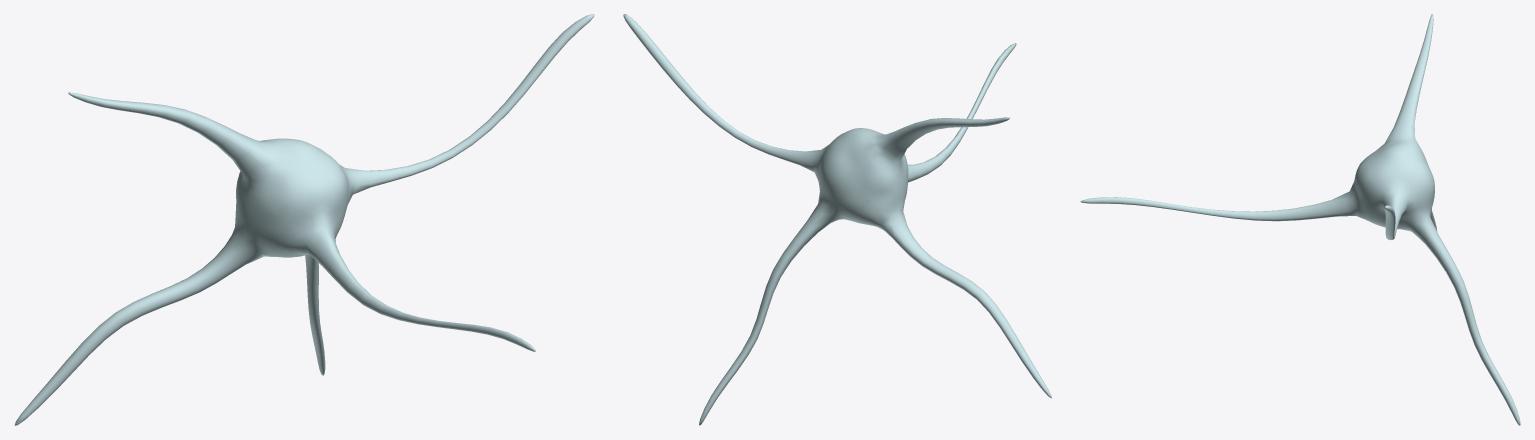
The model's file is Neuron2.fbx.
3 renders of one model, left to right at view 1: azimuth 30°, elevation 25°; view 2: azimuth 150°, elevation 25°; view 3: azimuth 270°, elevation 25°, orthographic. The views are drawn at different scales.
Visible parts, largest first — view 1: Neuron Transparent; view 2: Neuron Transparent; view 3: Neuron Transparent.
Part boxes in pixels (left/top/right/bottom): Neuron Transparent: left=14, top=14, right=594, bottom=425; Neuron Transparent: left=623, top=14, right=1051, bottom=425; Neuron Transparent: left=1080, top=14, right=1520, bottom=425.
Size of the model in its own units: 1114 by 784 by 1048.
